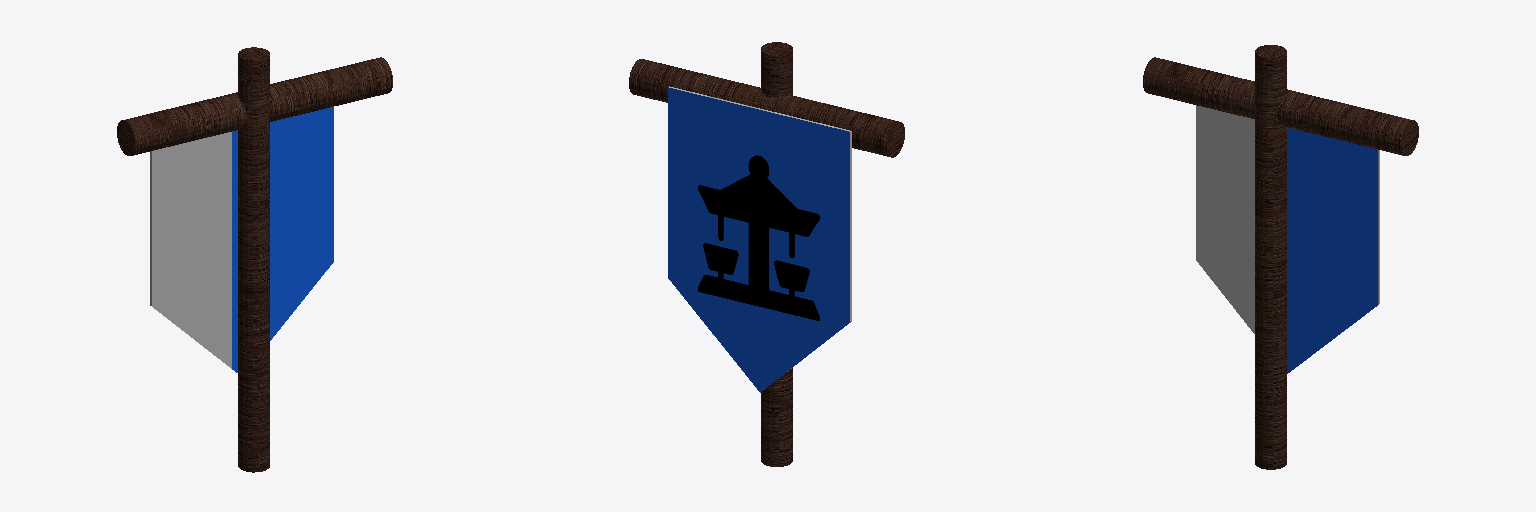
The picture shows the model from 3 angles: view 1: azimuth 30°, elevation 25°; view 2: azimuth 150°, elevation 25°; view 3: azimuth 330°, elevation 25°; orthographic projection.
Parts seen in each view (by area): view 1: estandarte_brinquedos_group polySurface57 polySurface1; view 2: estandarte_brinquedos_group polySurface57 polySurface1; view 3: estandarte_brinquedos_group polySurface57 polySurface1.
Boxes of the visible parts, x1=… form: estandarte_brinquedos_group polySurface57 polySurface1: x1=117, y1=47, x2=392, y2=472; estandarte_brinquedos_group polySurface57 polySurface1: x1=629, y1=42, x2=904, y2=466; estandarte_brinquedos_group polySurface57 polySurface1: x1=1143, y1=45, x2=1418, y2=469.
Size of the model in its own units: 0.3165 by 0.4824 by 0.0497.
1 materials, 1 textured.